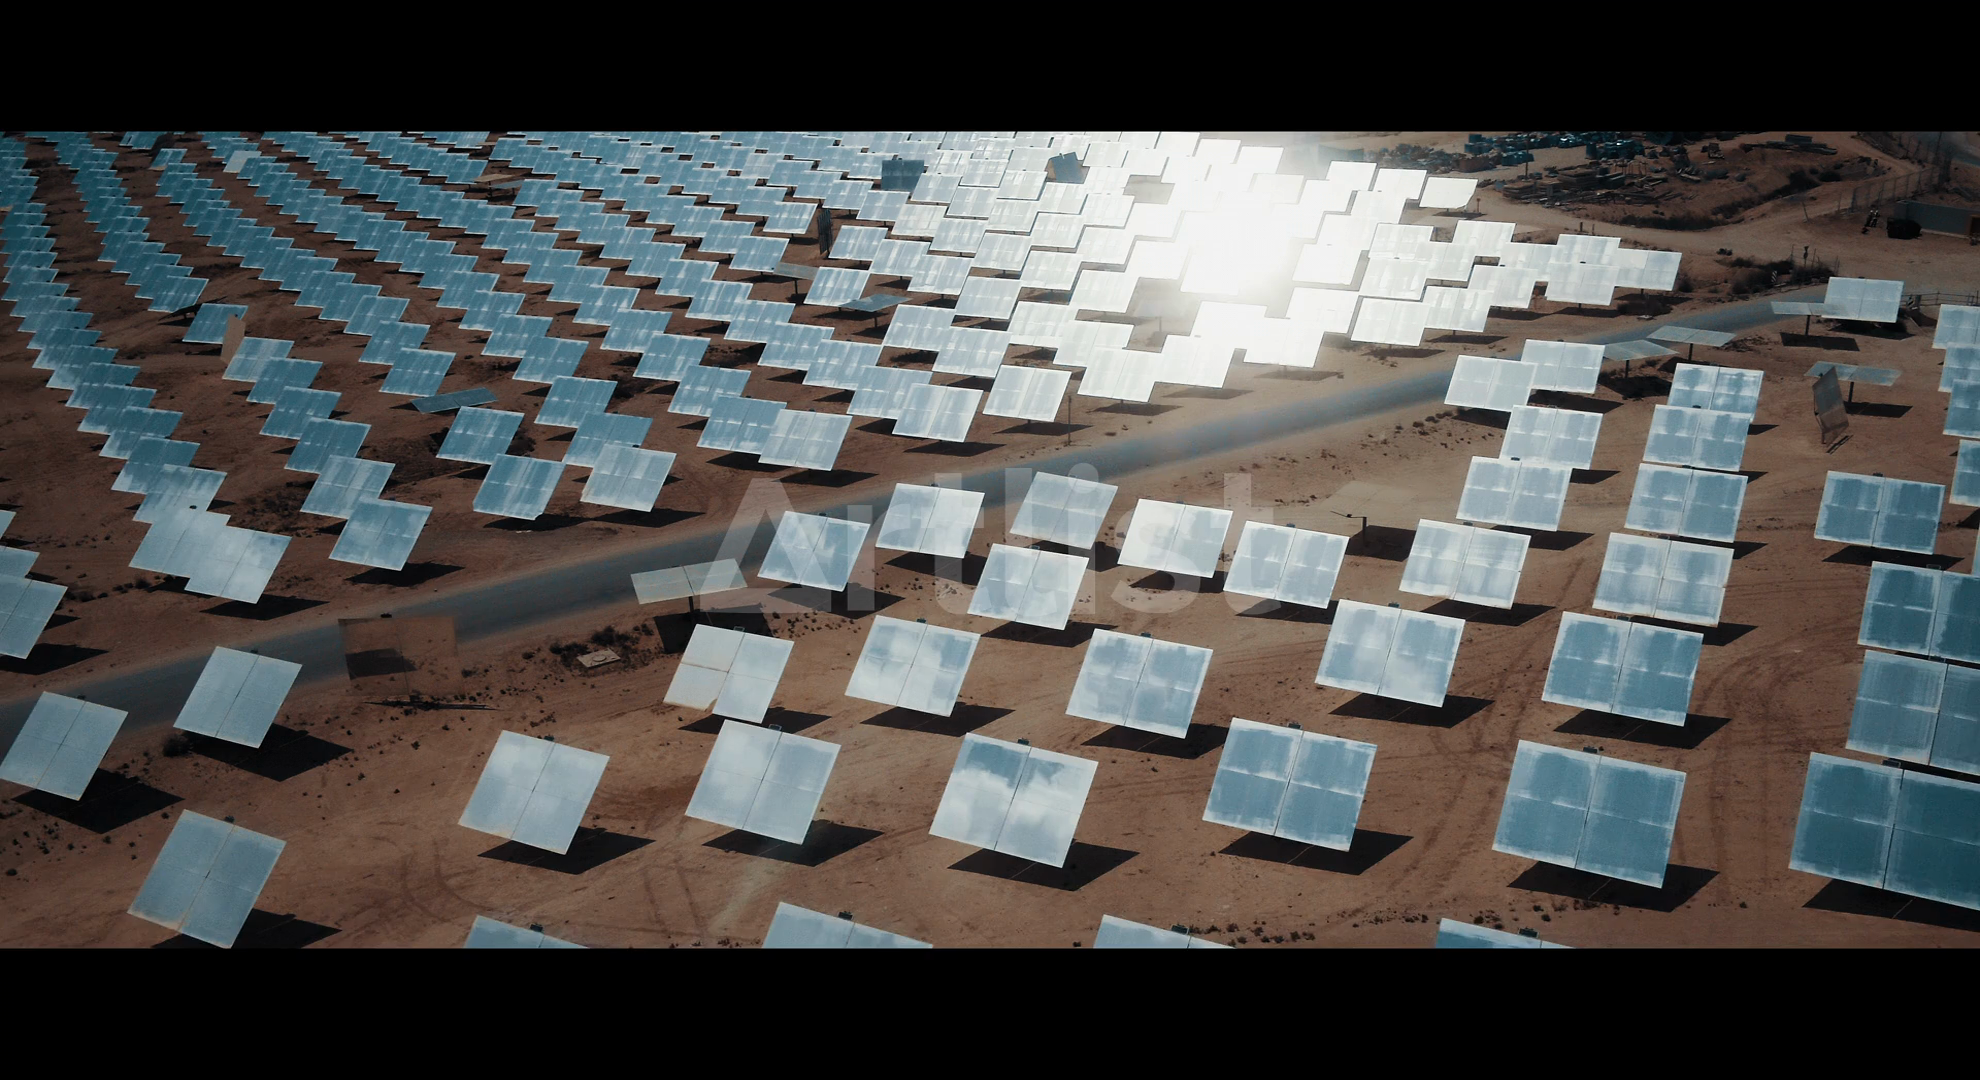solarpanel: (1553, 625, 1694, 713), (1515, 767, 1656, 855), (1590, 535, 1731, 622), (1830, 790, 1971, 878), (1839, 665, 1980, 753), (1820, 468, 1936, 556), (1628, 452, 1742, 540), (1457, 446, 1573, 532), (1092, 636, 1191, 729), (642, 539, 742, 632), (483, 742, 582, 835), (762, 882, 862, 975), (1013, 463, 1114, 555), (875, 475, 976, 567), (964, 755, 1065, 847), (862, 616, 961, 708), (977, 543, 1077, 634), (1122, 492, 1222, 584), (773, 511, 872, 603), (677, 624, 777, 716), (715, 733, 815, 825), (1239, 725, 1339, 817), (1336, 605, 1436, 697), (1243, 515, 1343, 607), (1384, 507, 1484, 599), (461, 878, 561, 970), (193, 649, 293, 741), (13, 692, 113, 783), (161, 830, 261, 922), (347, 501, 412, 568), (677, 358, 742, 424), (641, 325, 706, 391), (576, 408, 641, 475), (544, 376, 609, 443), (519, 323, 584, 390), (452, 406, 517, 472), (378, 334, 443, 400), (423, 364, 488, 431), (311, 459, 376, 525), (299, 416, 364, 483), (270, 380, 335, 447), (221, 331, 286, 398), (177, 294, 242, 360), (137, 508, 202, 575), (122, 431, 187, 497), (77, 375, 142, 442), (1, 585, 66, 652), (0, 536, 65, 603), (205, 529, 270, 595), (481, 452, 547, 517), (592, 448, 657, 513), (777, 406, 842, 471), (717, 395, 782, 460), (604, 301, 669, 366), (481, 305, 547, 370), (350, 309, 415, 374), (259, 351, 324, 416), (142, 460, 207, 525), (105, 400, 170, 466)
